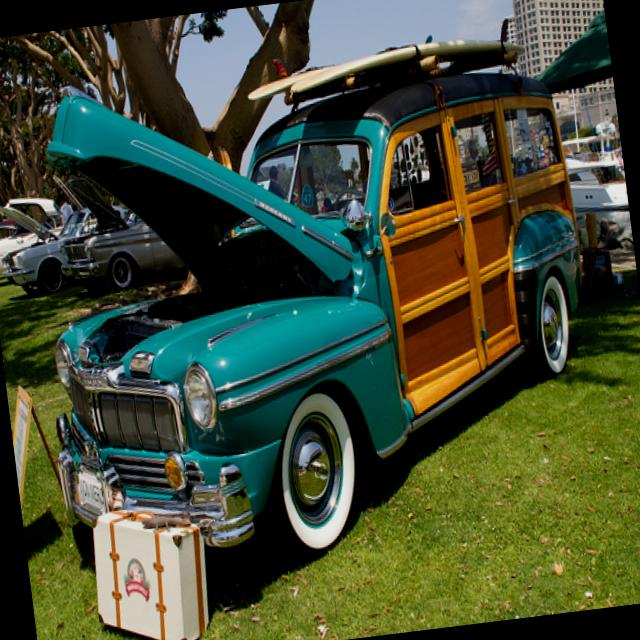Vehicle: (14, 34, 615, 585), (54, 169, 190, 296), (0, 191, 73, 299), (0, 217, 40, 282)
